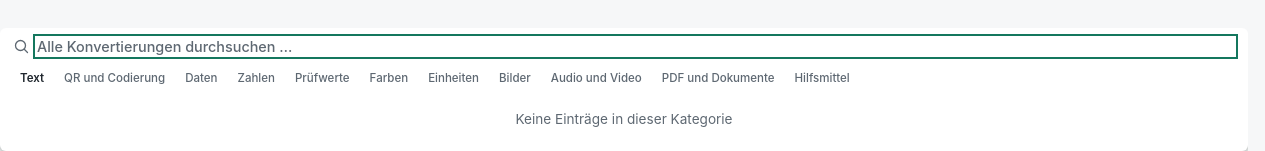
ToolPicker › labels an experimental tool in its localized category tab
(page scrolled)
Click the button "Audio und Video": {"x": 596, "y": 78} 541,65 -> 652,91
(page scrolled)
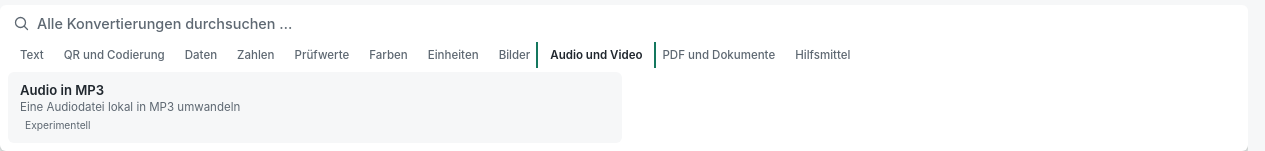
Expected: the text "Audio in MP3" is shown, 20,82 -> 104,98
Expected: the text "Experimentell" is shown, 20,117 -> 96,133
